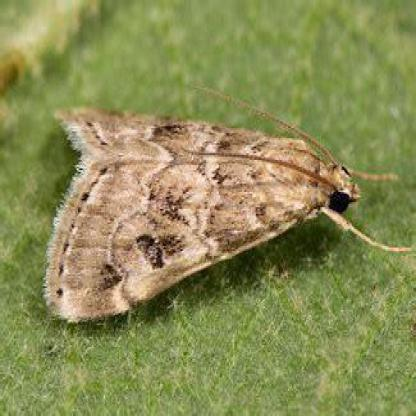Hellula undalis: (43, 79, 413, 327)
